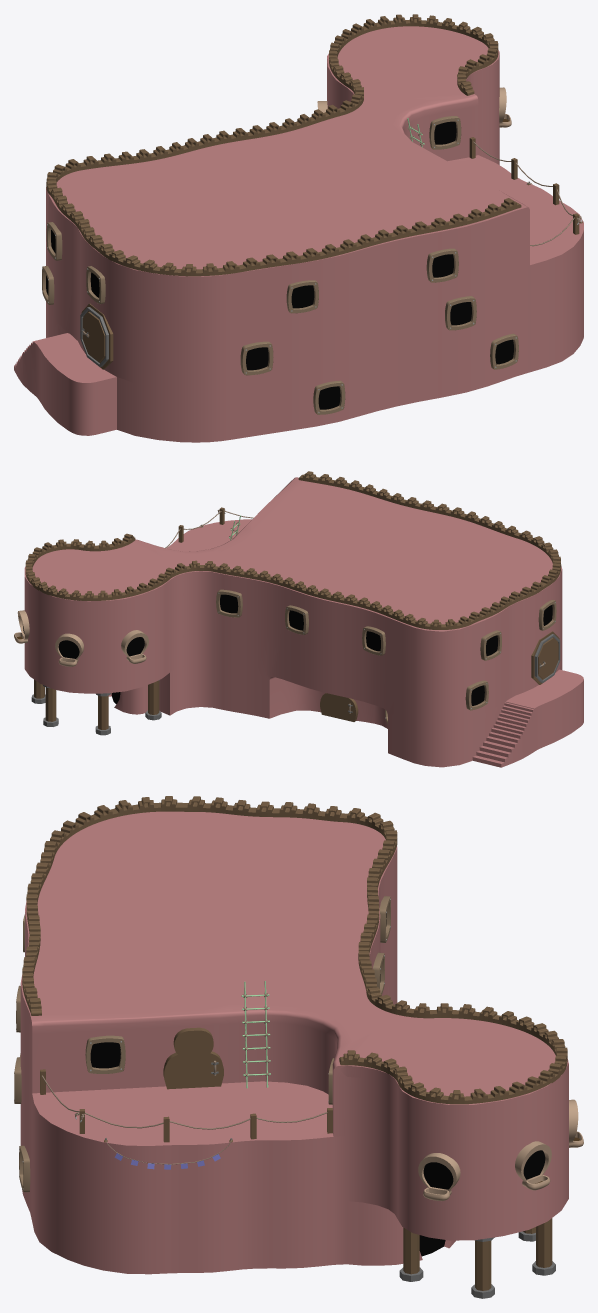
The model's file is residential_building_03_merged.fbx.
The picture shows the model from 3 angles, top to bottom: view 1: azimuth 30°, elevation 25°; view 2: azimuth 150°, elevation 25°; view 3: azimuth 270°, elevation 25°; orthographic projection. The views are drawn at different scales.
Visible parts, largest first — view 1: residential_building_03, topper, windows_01, door_01, rope_fence; view 2: residential_building_03, topper, windows_01, windows_02, wooden_supports, door_01, doors_02; view 3: residential_building_03, topper, windows_01, windows_02, wooden_supports, doors_02, rope_fence, bamboo_ladder_01.
Part boxes in pixels (<box>): residential_building_03: <box>14,26,583,442</box>; topper: <box>46,14,521,276</box>; windows_01: <box>42,116,518,414</box>; door_01: <box>80,303,113,369</box>; rope_fence: <box>469,137,581,246</box>; residential_building_03: <box>24,477,583,767</box>; topper: <box>25,471,561,629</box>; windows_01: <box>216,589,556,723</box>; windows_02: <box>14,610,148,666</box>; wooden_supports: <box>31,679,161,735</box>; door_01: <box>531,631,560,684</box>; doors_02: <box>320,693,358,721</box>; residential_building_03: <box>20,811,568,1274</box>; topper: <box>22,796,567,1104</box>; windows_01: <box>14,896,390,1192</box>; windows_02: <box>418,1099,583,1201</box>; wooden_supports: <box>399,1218,555,1298</box>; doors_02: <box>163,1027,223,1089</box>; rope_fence: <box>40,1069,332,1142</box>; bamboo_ladder_01: <box>241,981,270,1088</box>.
Bounding box in the file's own units: 3213 × 1044 × 2379.
